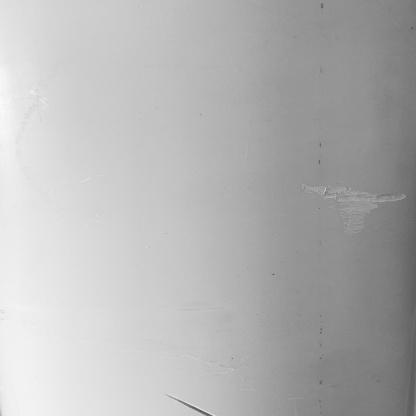sunshang: (300, 176, 409, 232), (165, 381, 215, 414)
